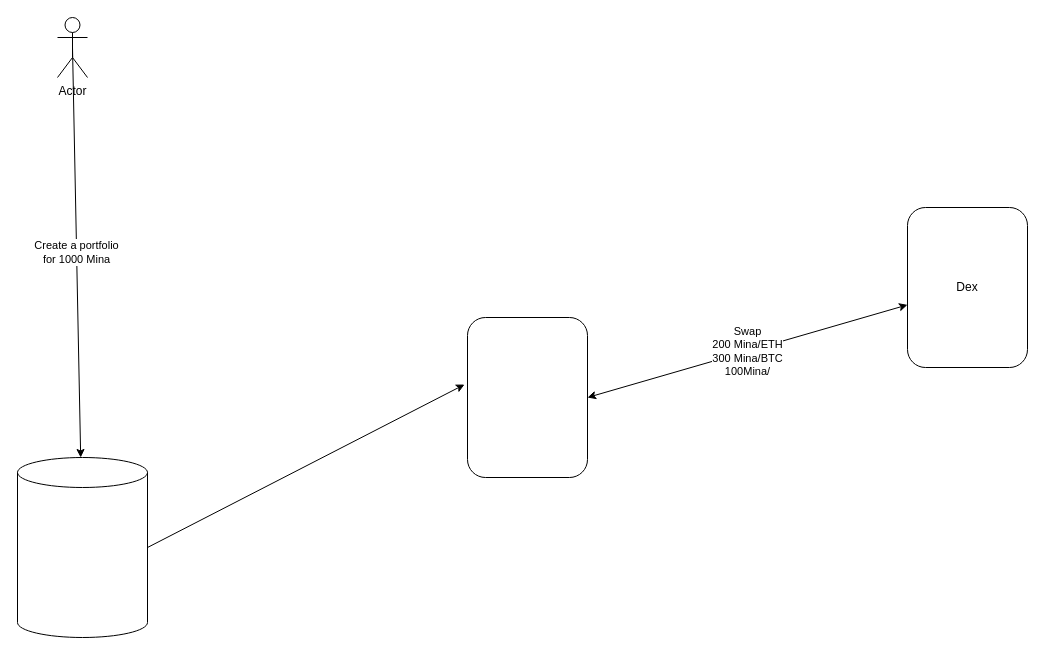
This 1045x655 diagram has some shape labels left out. The centre of each missing label's shape, as x and y in pixels:
20% ETH 30% BTC 10% USDC 15% LINK 15% AVAX 10% GRT: (82,547)
Mina Folio SmartContract: (527,397)
